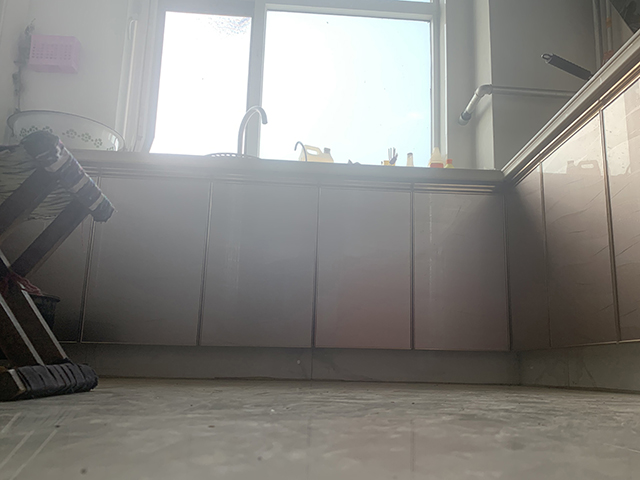cabinet: (97, 148, 504, 382), (502, 31, 640, 391)
stool: (1, 126, 116, 401)
